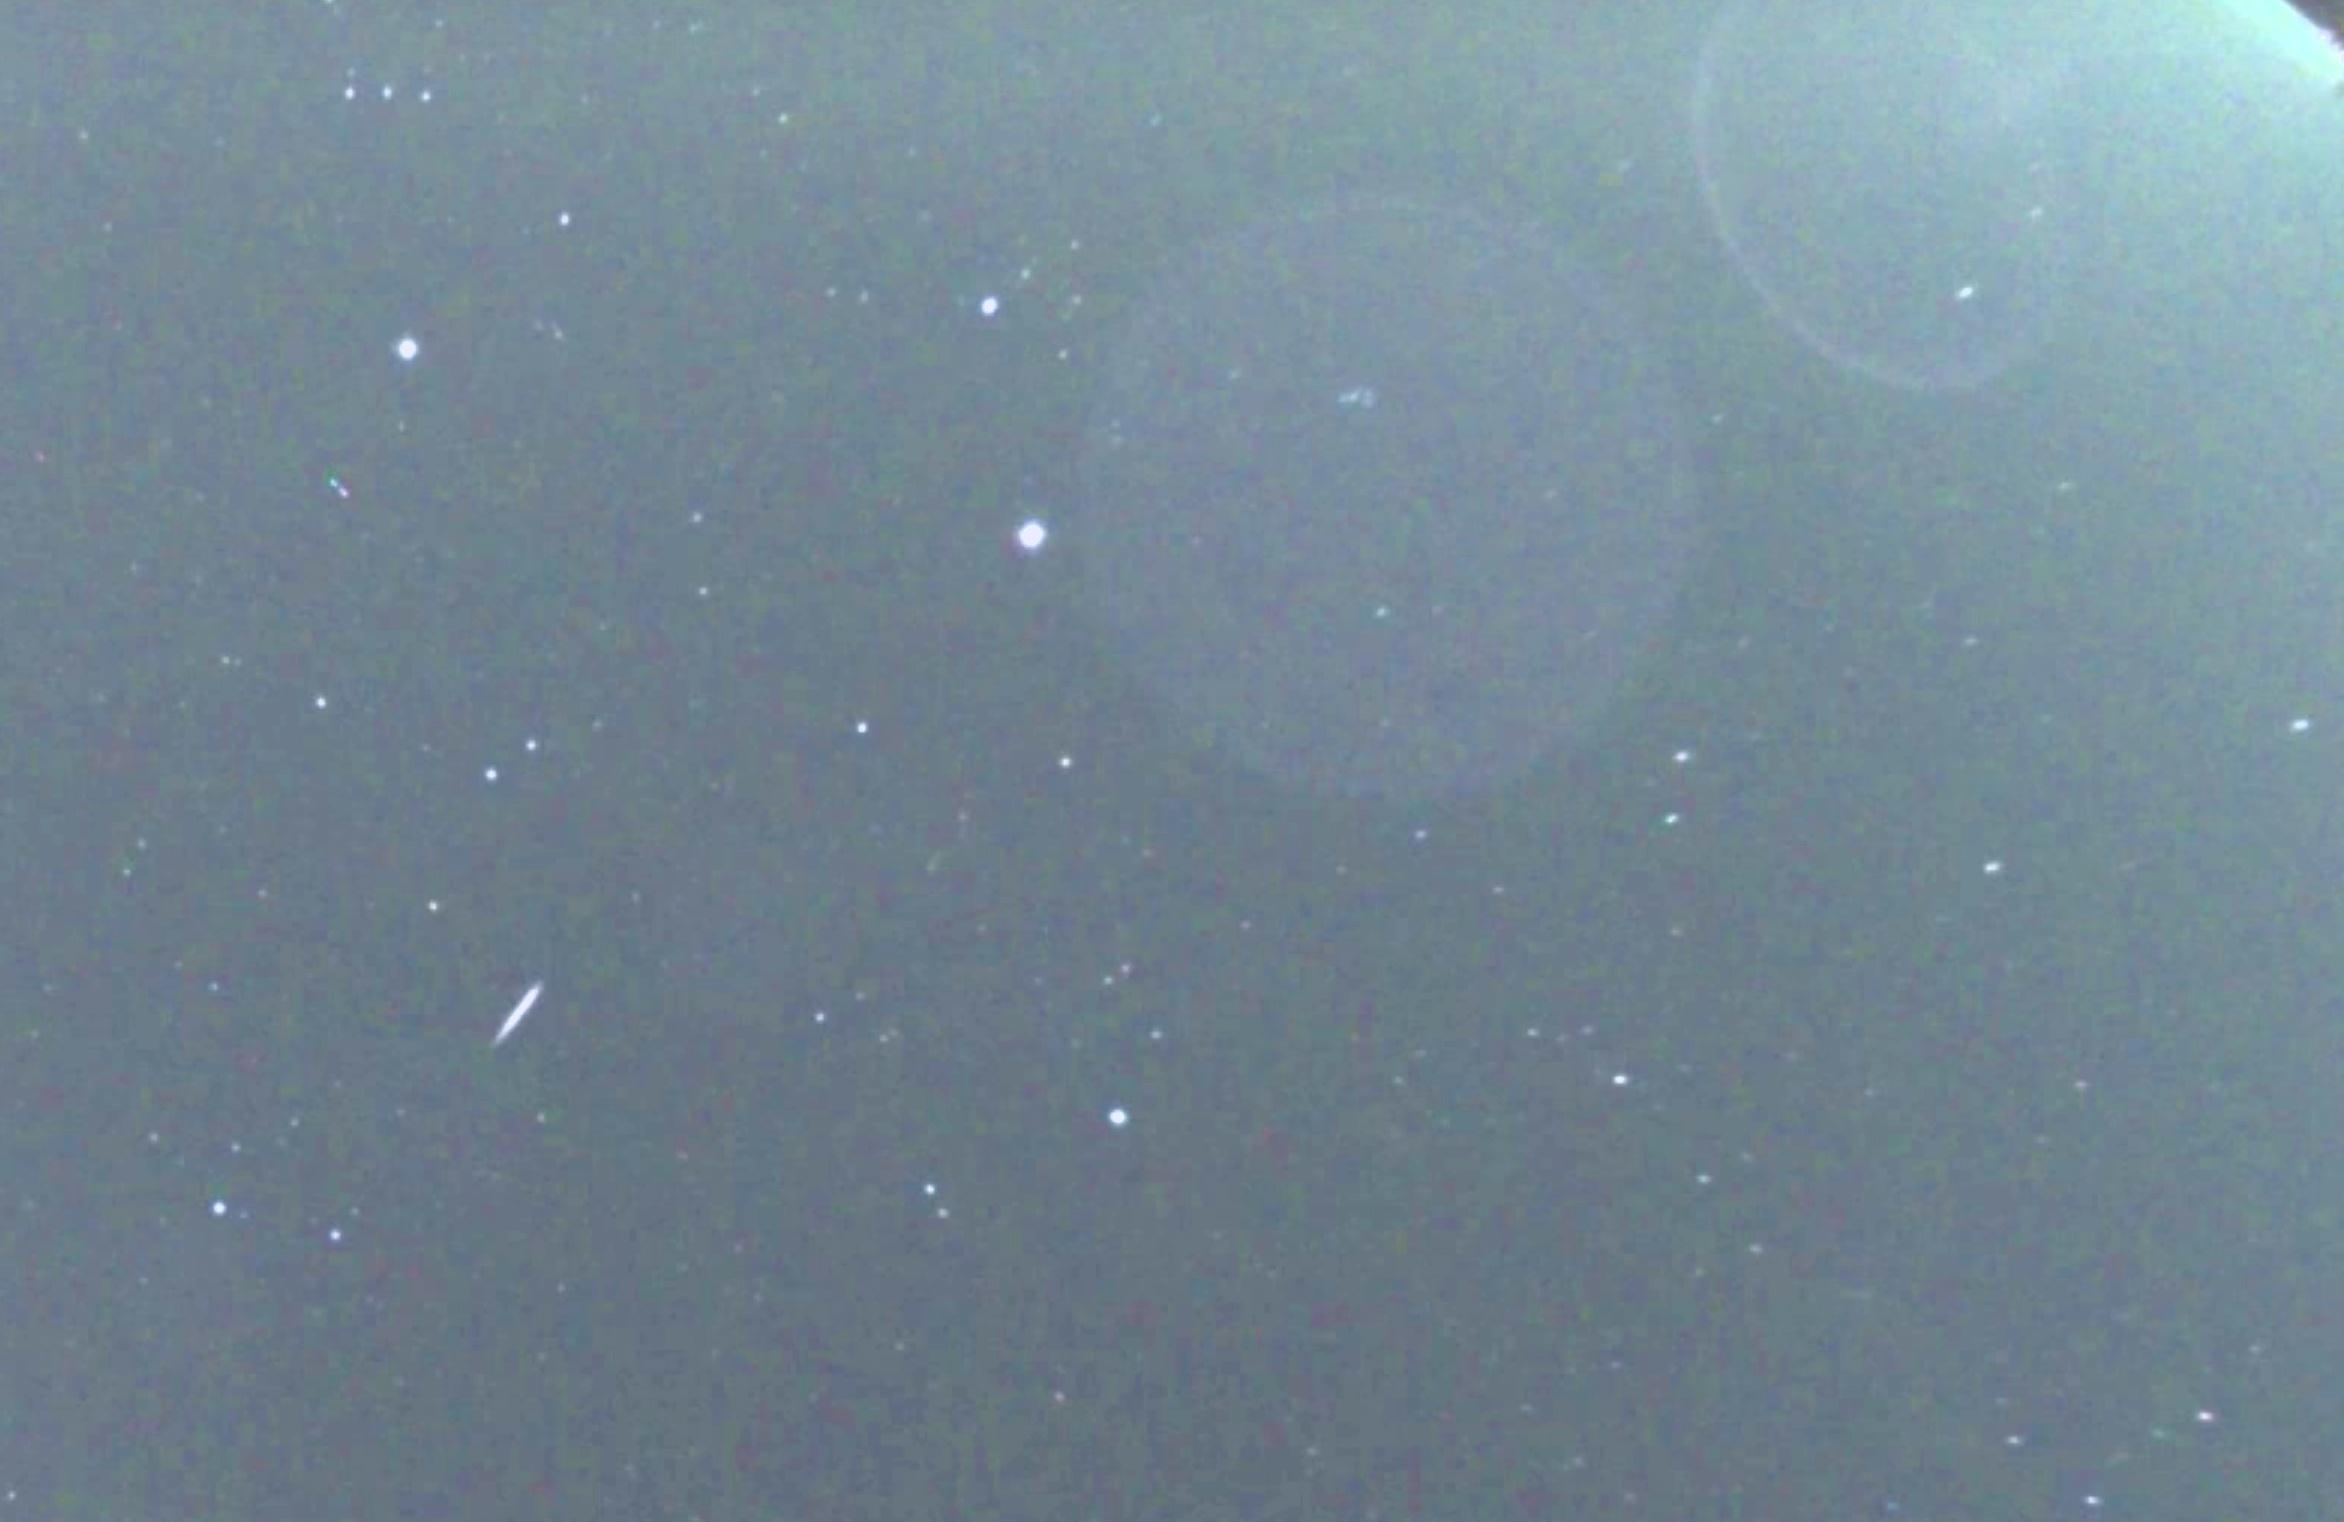Plane: (301, 461, 384, 521)
meteorite: (436, 972, 615, 1056)
